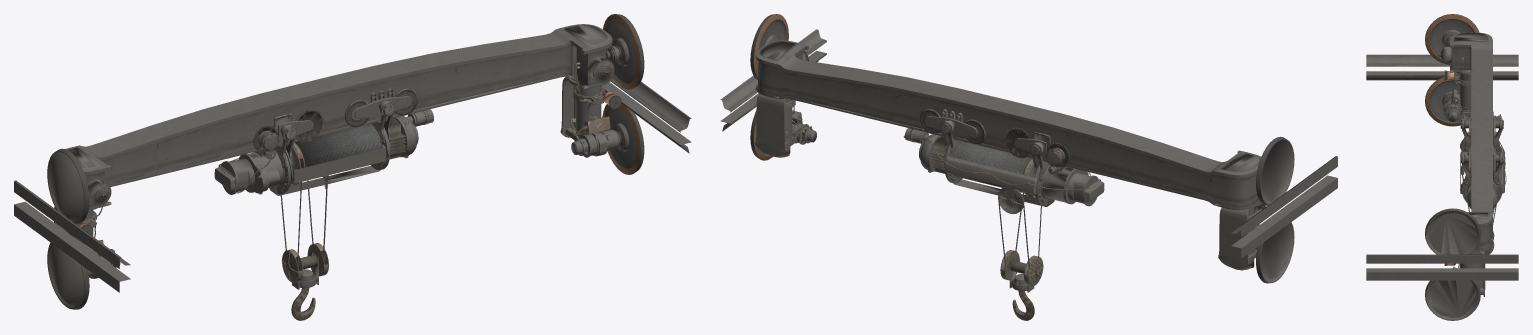
Rendered from overhead-crane.glb.
3 views of the same model, side by side, from view 1: azimuth 30°, elevation 25°; view 2: azimuth 150°, elevation 25°; view 3: azimuth 270°, elevation 25° (orthographic). The views are drawn at different scales.
Parts seen in each view (by area): view 1: overhead_crane; view 2: overhead_crane; view 3: overhead_crane.
Boxes of the visible parts, x1,y1,x2,y2 form: overhead_crane: (14, 14, 691, 320); overhead_crane: (720, 14, 1337, 320); overhead_crane: (1366, 14, 1518, 320).
Size of the model in its own units: 12.49 by 5.13 by 4.
2 materials, 2 textured.
